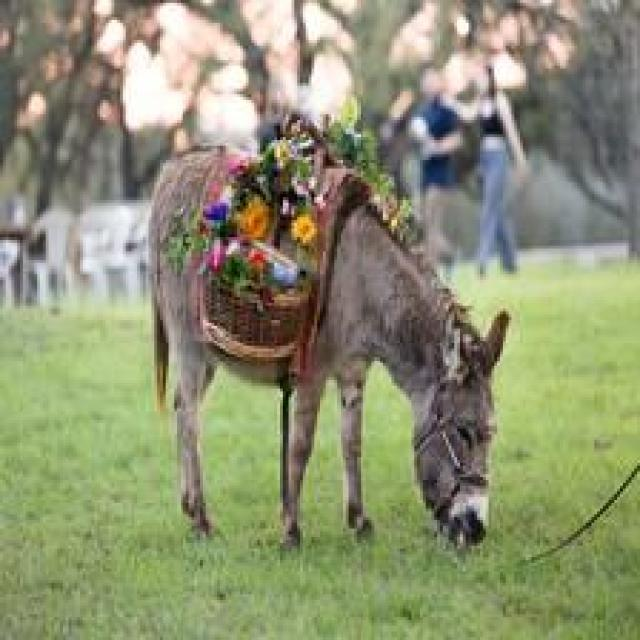Donkey: (143, 140, 508, 551)
